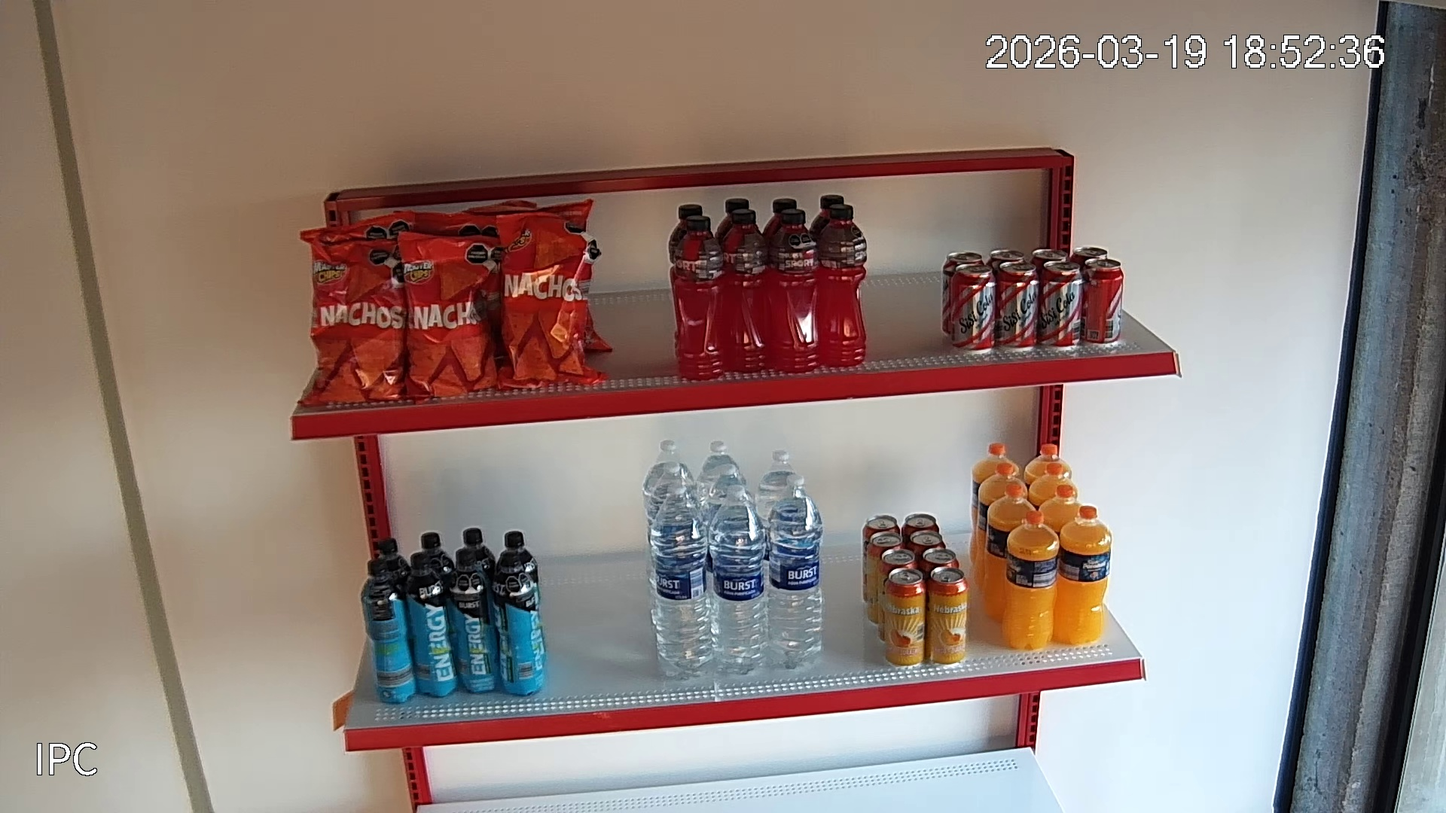agua_burst: (642, 440, 696, 516), (756, 450, 797, 526), (696, 440, 746, 501)
burst_energetica_roja: (721, 209, 771, 371), (669, 205, 702, 352), (810, 194, 844, 242)
burst_energy: (400, 553, 458, 696), (446, 549, 501, 691), (463, 527, 496, 589)
nachos_naturasol: (496, 212, 604, 389), (301, 237, 406, 405), (397, 231, 501, 398)
nebraska_mango: (926, 567, 968, 664), (877, 547, 918, 640), (906, 530, 945, 561)
sisi_cola: (951, 264, 996, 351), (1039, 260, 1082, 347), (942, 251, 985, 333), (1069, 246, 1107, 267)
sun_paradise_naranja: (971, 444, 1024, 562), (1038, 485, 1084, 539)
